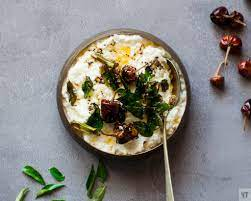curd_rice: (53, 26, 197, 163)
